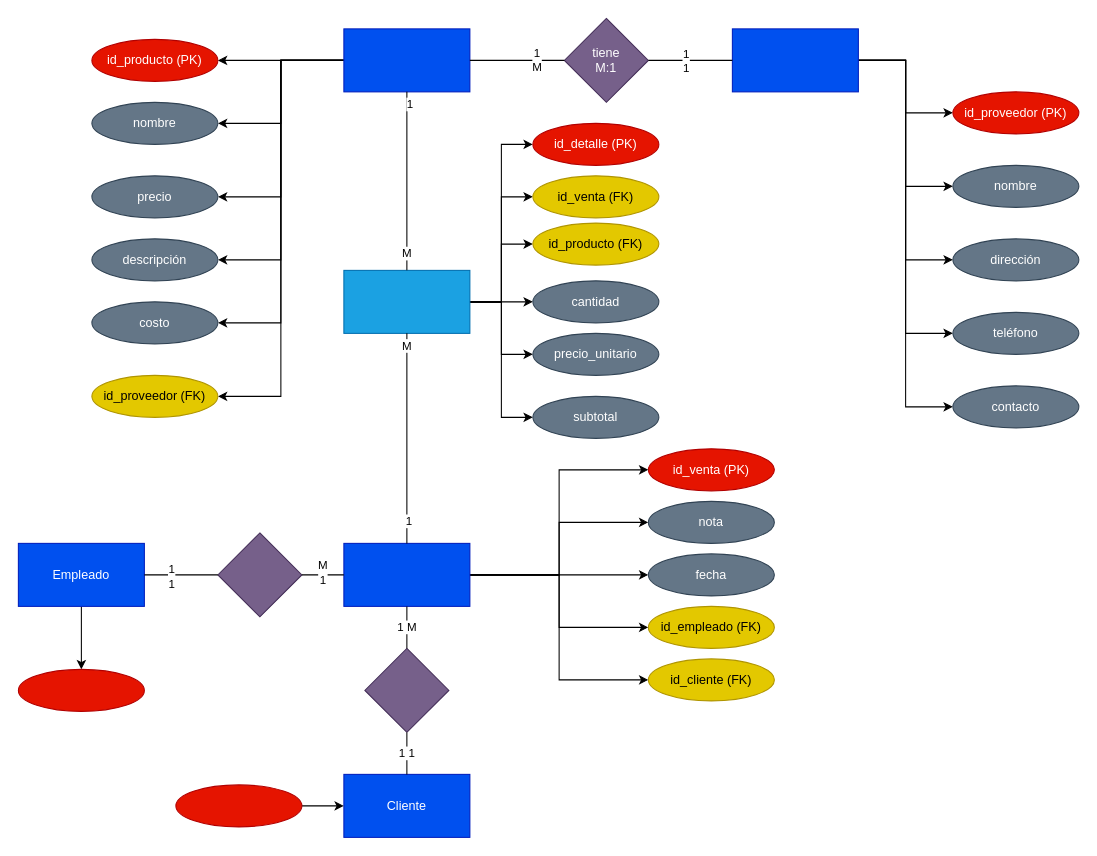
Some shapes in this 1097 by 856 pixel diagram are drawn without their labels. The shapes that lost their labels are listed below. From the top down, each one's centre as x and y in pixels, then its label:
At (x=406, y=60): "Producto".
At (x=794, y=60): "Provedor".
At (x=406, y=301): "detalle_venta".
At (x=259, y=574): "realiza 1:M".
At (x=406, y=574): "Venta".
At (x=80, y=689): "id_empleado (PK)".
At (x=406, y=689): "provoca 1:M".
At (x=238, y=805): "id_cliente(PK)".
